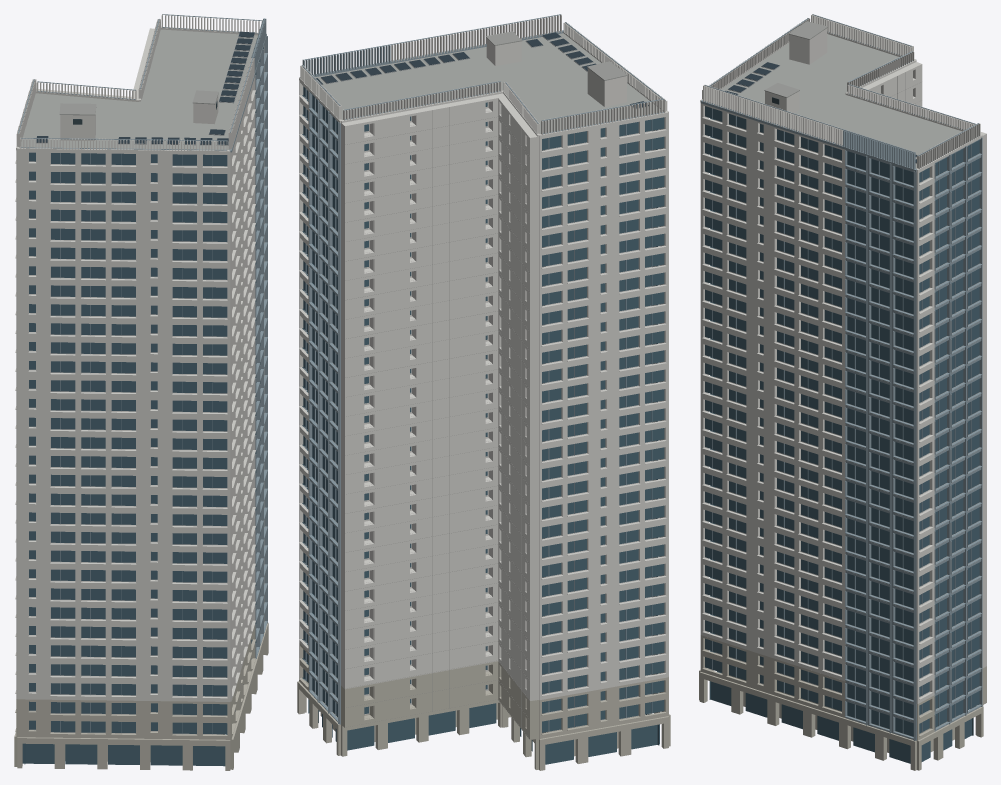
Rendered from bespoke-maple-xi-101.glb.
3 renders of one model, left to right at view 1: azimuth 30°, elevation 25°; view 2: azimuth 150°, elevation 25°; view 3: azimuth 270°, elevation 25°, orthographic. The views are drawn at different scales.
Parts seen in each view (by area): view 1: Maple101_numbered_plan_inset_body, Maple101_e0_end_glass, Maple101_numbered_plan_roof, Maple101_e0_end_unequal_sash, Maple101_recessed_stone_lobby, Maple101_PV_cells, Maple101_e1_cladding_joint, Maple101_PV_frame; view 2: Maple101_numbered_plan_inset_body, Maple101_e0_end_glass, Maple101_e0_end_unequal_sash, Maple101_recessed_stone_lobby, Maple101_numbered_plan_roof, Maple101_e1_cladding_joint, Maple101_PV_cells; view 3: Maple101_e0_end_glass, Maple101_numbered_plan_inset_body, Maple101_e0_end_unequal_sash, Maple101_numbered_plan_roof, Maple101_recessed_stone_lobby, Maple101_e1_cladding_joint.
Part boxes in pixels (x1,y1,x2,y2): Maple101_numbered_plan_inset_body: (15, 14, 264, 734); Maple101_e0_end_glass: (22, 47, 263, 766); Maple101_numbered_plan_roof: (19, 29, 257, 149); Maple101_e0_end_unequal_sash: (18, 14, 267, 734); Maple101_recessed_stone_lobby: (14, 595, 268, 770); Maple101_PV_cells: (36, 31, 254, 144); Maple101_e1_cladding_joint: (59, 90, 218, 115); Maple101_PV_frame: (36, 32, 254, 145); Maple101_numbered_plan_inset_body: (299, 14, 668, 732); Maple101_e0_end_glass: (302, 86, 664, 764); Maple101_e0_end_unequal_sash: (299, 14, 665, 731); Maple101_recessed_stone_lobby: (297, 643, 670, 770); Maple101_numbered_plan_roof: (315, 33, 663, 134); Maple101_e1_cladding_joint: (345, 31, 627, 738); Maple101_PV_cells: (315, 32, 648, 108); Maple101_e0_end_glass: (705, 106, 979, 763); Maple101_numbered_plan_inset_body: (700, 14, 986, 718); Maple101_e0_end_unequal_sash: (700, 14, 982, 740); Maple101_numbered_plan_roof: (721, 34, 962, 168); Maple101_recessed_stone_lobby: (699, 631, 986, 770); Maple101_e1_cladding_joint: (764, 21, 980, 739).
Bounding box in the file's own units: 50.9 × 102 × 42.56.
